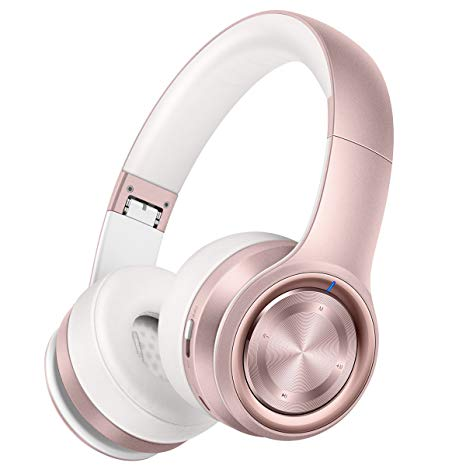Headphone: (38, 3, 399, 466)
